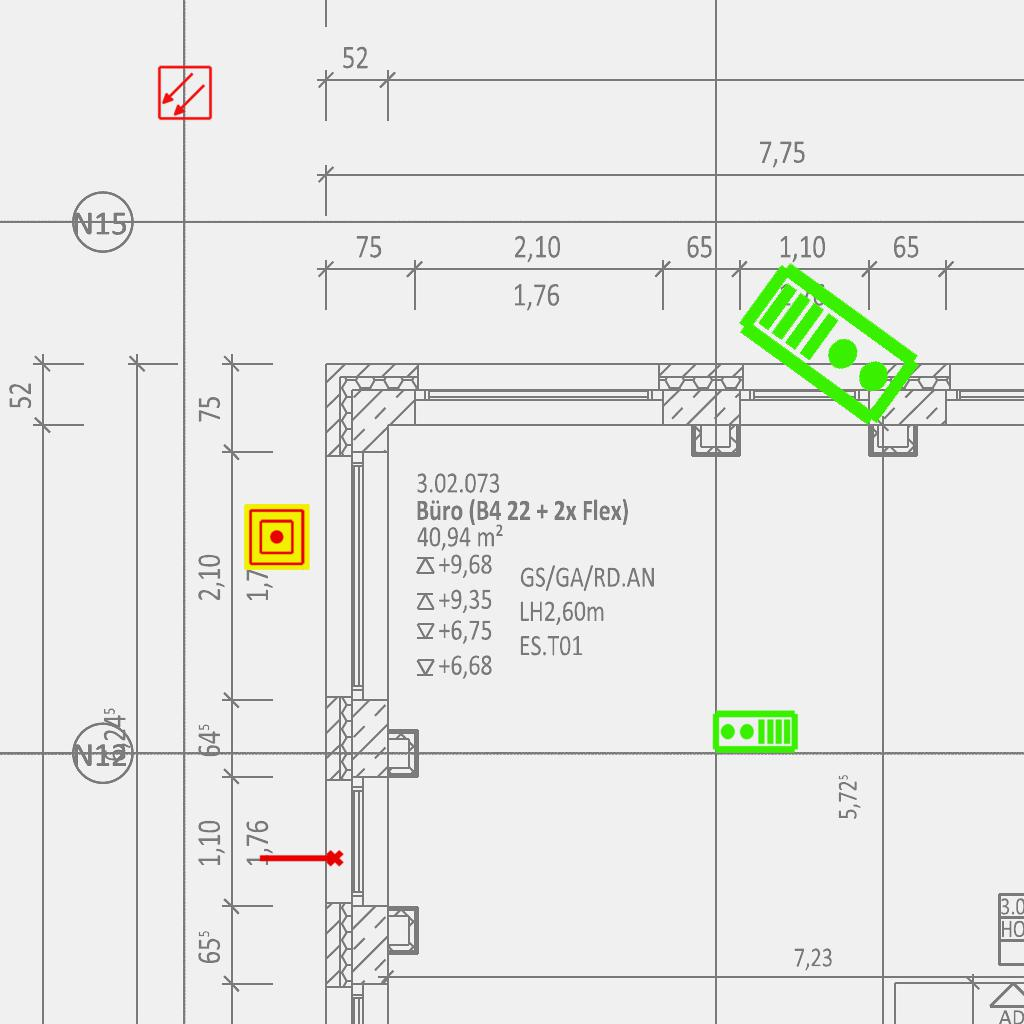ASR_Ansaugoeffnung: (257, 848, 345, 871)
Gegensprechanlage_mit_Video: (731, 252, 930, 434), (711, 709, 799, 756)
NAM-Nichtautomatischer_Melder: (244, 504, 310, 570)
RMO_Rauchmelder_optischer: (157, 65, 213, 121)
